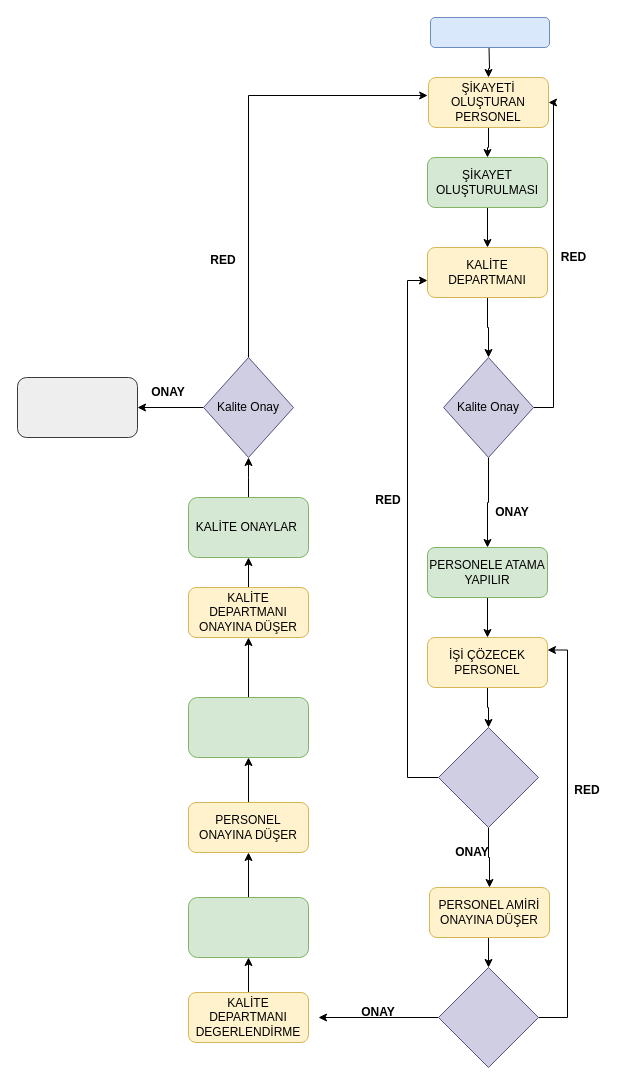
Some shapes in this 625 by 1085 pixel diagram are drawn without their labels. The shapes that lost their labels are listed below. From the top down, each one's centre as x and y in pixels, then its label:
At point (490, 32): "START".
At point (77, 407): "ŞİKAYET KAPANIR".
At point (248, 727): "PERSONEL MÜŞTERİYLE GÖRÜŞME NOTLARIN YAZAR".
At point (488, 777): "PERSONEL ONAY".
At point (248, 927): "MÜŞTERİYLE GÖRÜŞECEK PERSONELE ATAMA YAPAR".
At point (488, 1017): "PERSONEL AMİRİ ONAY".
